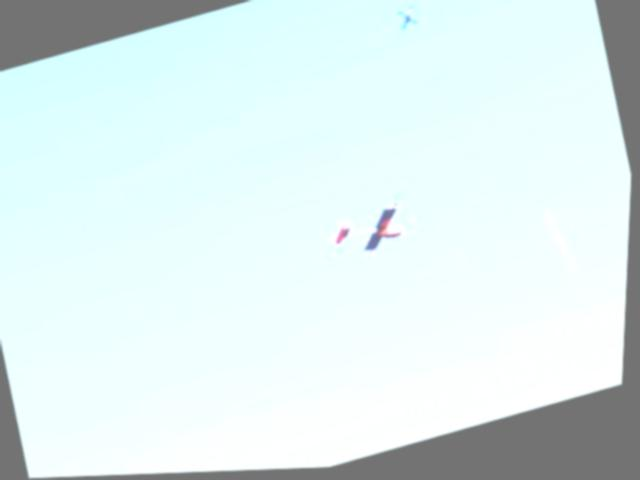uav: (315, 178, 430, 279)
